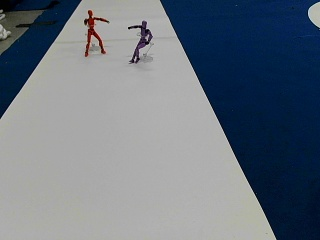pedestrian: (83, 8, 109, 56), (127, 19, 152, 62)
